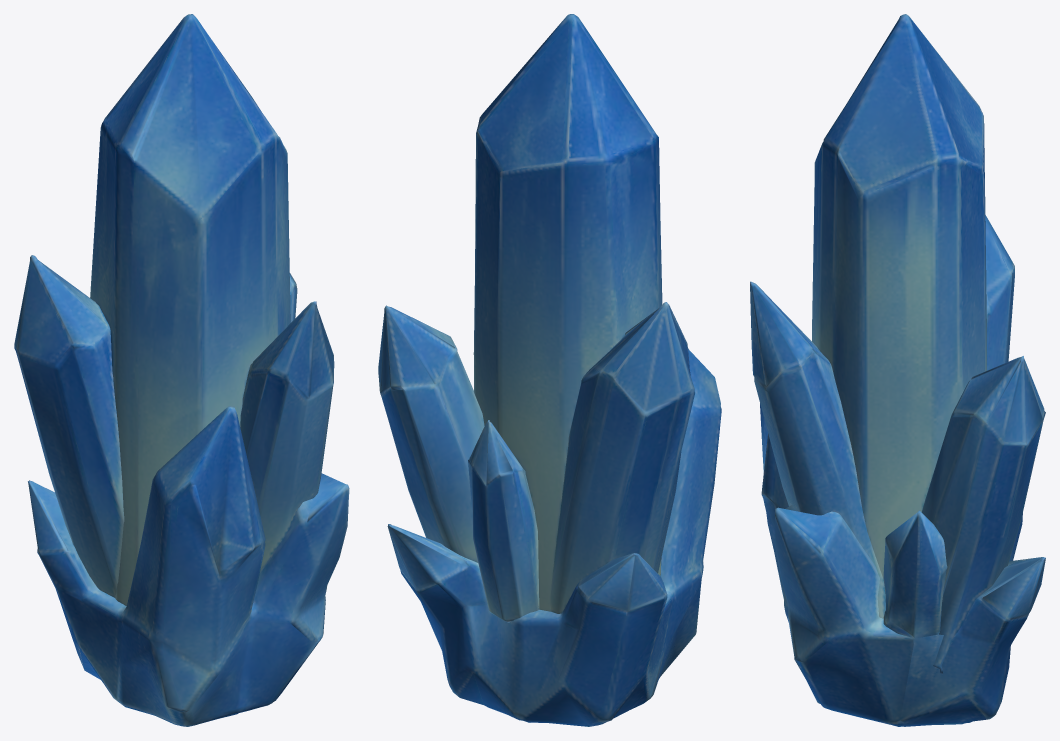
The model's file is blue+crystal+cluster+3d+model.glb.
3 renders of one model, left to right at view 1: azimuth 30°, elevation 25°; view 2: azimuth 150°, elevation 25°; view 3: azimuth 270°, elevation 25°, orthographic.
Parts seen in each view (by area): view 1: tripo_node_652d8b57-53cf-4b96-8db6-0d8de0a34bf8; view 2: tripo_node_652d8b57-53cf-4b96-8db6-0d8de0a34bf8; view 3: tripo_node_652d8b57-53cf-4b96-8db6-0d8de0a34bf8.
Boxes of the visible parts, <box> form: tripo_node_652d8b57-53cf-4b96-8db6-0d8de0a34bf8: <box>14,14,349,726</box>; tripo_node_652d8b57-53cf-4b96-8db6-0d8de0a34bf8: <box>378,14,721,726</box>; tripo_node_652d8b57-53cf-4b96-8db6-0d8de0a34bf8: <box>750,14,1045,726</box>.
Size of the model in its own units: 0.4512 by 0.998 by 0.3926.
Materials: 1 (1 with a texture image).
